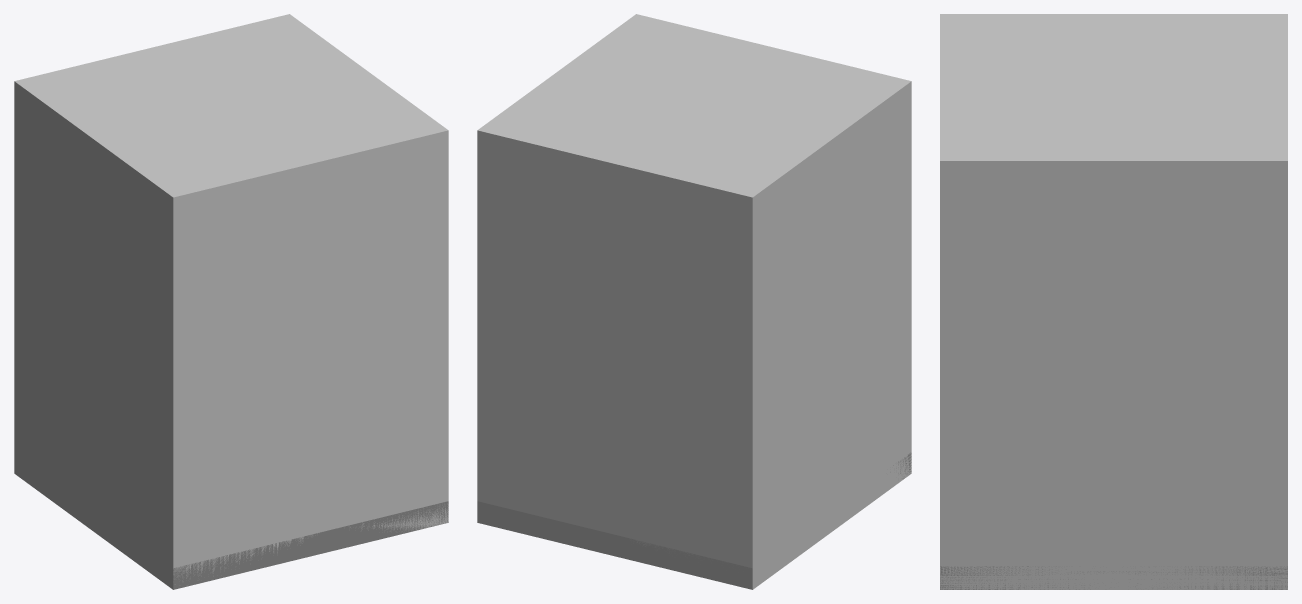
File: SM_GarbageCan_03.fbx
The picture shows the model from 3 angles, left to right: view 1: azimuth 30°, elevation 25°; view 2: azimuth 150°, elevation 25°; view 3: azimuth 270°, elevation 25°; orthographic projection. The views are drawn at different scales.
Parts seen in each view (by area): view 1: SM_GarbageCan_03_ConvexHulls, SM_GarbageCan_03; view 2: SM_GarbageCan_03_ConvexHulls, SM_GarbageCan_03; view 3: SM_GarbageCan_03_ConvexHulls, SM_GarbageCan_03.
Part boxes in pixels (bbox=[...]): SM_GarbageCan_03_ConvexHulls: bbox=[14, 14, 448, 589]; SM_GarbageCan_03: bbox=[173, 501, 448, 589]; SM_GarbageCan_03_ConvexHulls: bbox=[477, 14, 911, 589]; SM_GarbageCan_03: bbox=[477, 452, 911, 589]; SM_GarbageCan_03_ConvexHulls: bbox=[940, 14, 1287, 589]; SM_GarbageCan_03: bbox=[940, 566, 1287, 589].
Size of the model in its own units: 84.59 by 84.59 by 115.
Materials: 2 (1 with a texture image).
